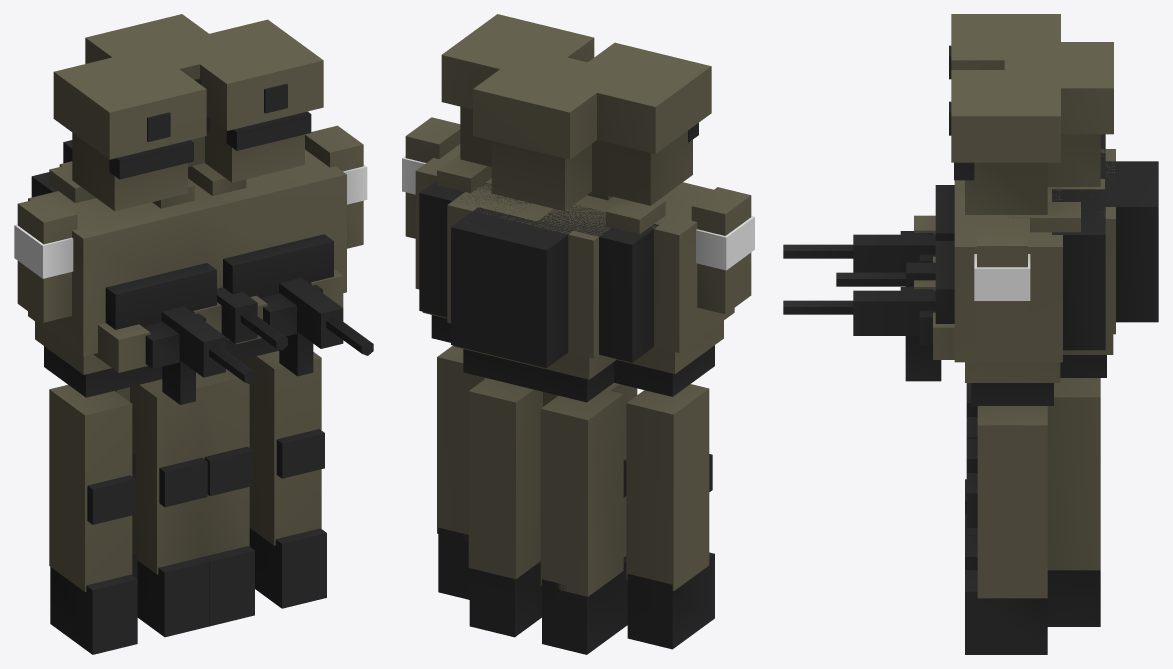
The model's file is ru-rifleman.glb.
3 views of the same model, side by side, from view 1: azimuth 30°, elevation 25°; view 2: azimuth 150°, elevation 25°; view 3: azimuth 270°, elevation 25° (orthographic). The views are drawn at different scales.
Visible parts, largest first — view 1: ru-rifleman; view 2: ru-rifleman; view 3: ru-rifleman.
Boxes of the visible parts, x1,y1,x2,y2 form: ru-rifleman: (14, 14, 373, 654); ru-rifleman: (402, 14, 754, 654); ru-rifleman: (783, 14, 1158, 654).
Size of the model in its own units: 0.2766 by 0.444 by 0.2829.
